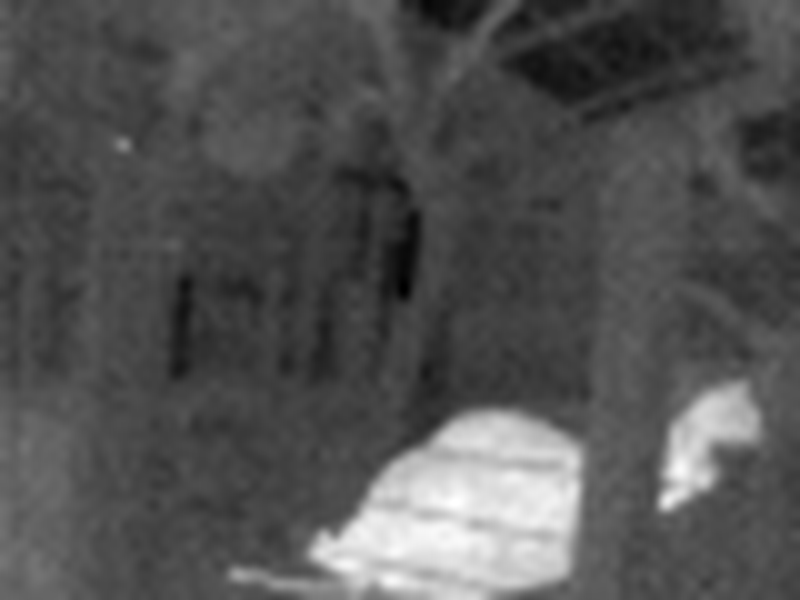elephant: (304, 347, 785, 600)
